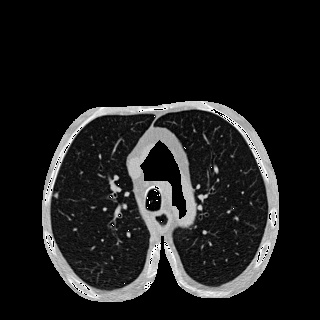PN: (54, 193, 58, 197)
